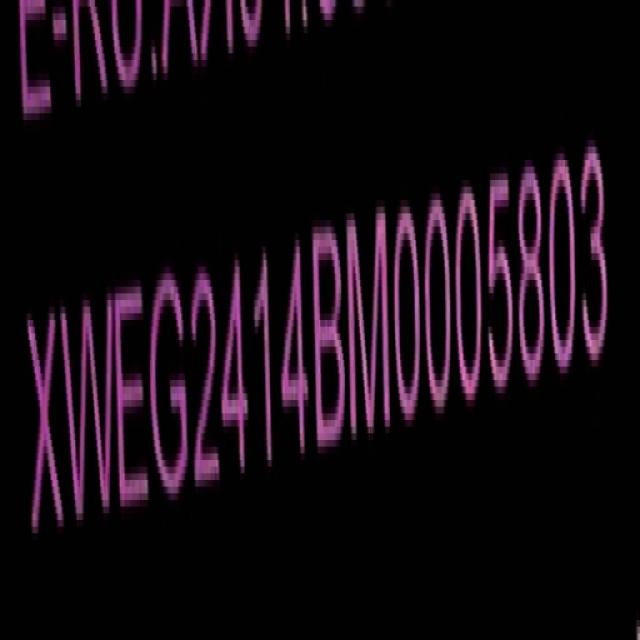0: (391, 188, 423, 430), (452, 183, 484, 422), (550, 128, 577, 388), (423, 190, 452, 427)
1: (253, 230, 274, 474)
2: (188, 267, 222, 494)
3: (577, 138, 611, 378)
4: (277, 230, 312, 469), (218, 257, 250, 474)
5: (485, 156, 516, 408)
8: (515, 151, 546, 395)
B: (309, 212, 346, 454)
E: (113, 276, 152, 514)
G: (148, 254, 190, 506)
M: (344, 205, 392, 444)
W: (60, 277, 115, 526)
X: (27, 304, 63, 533)
